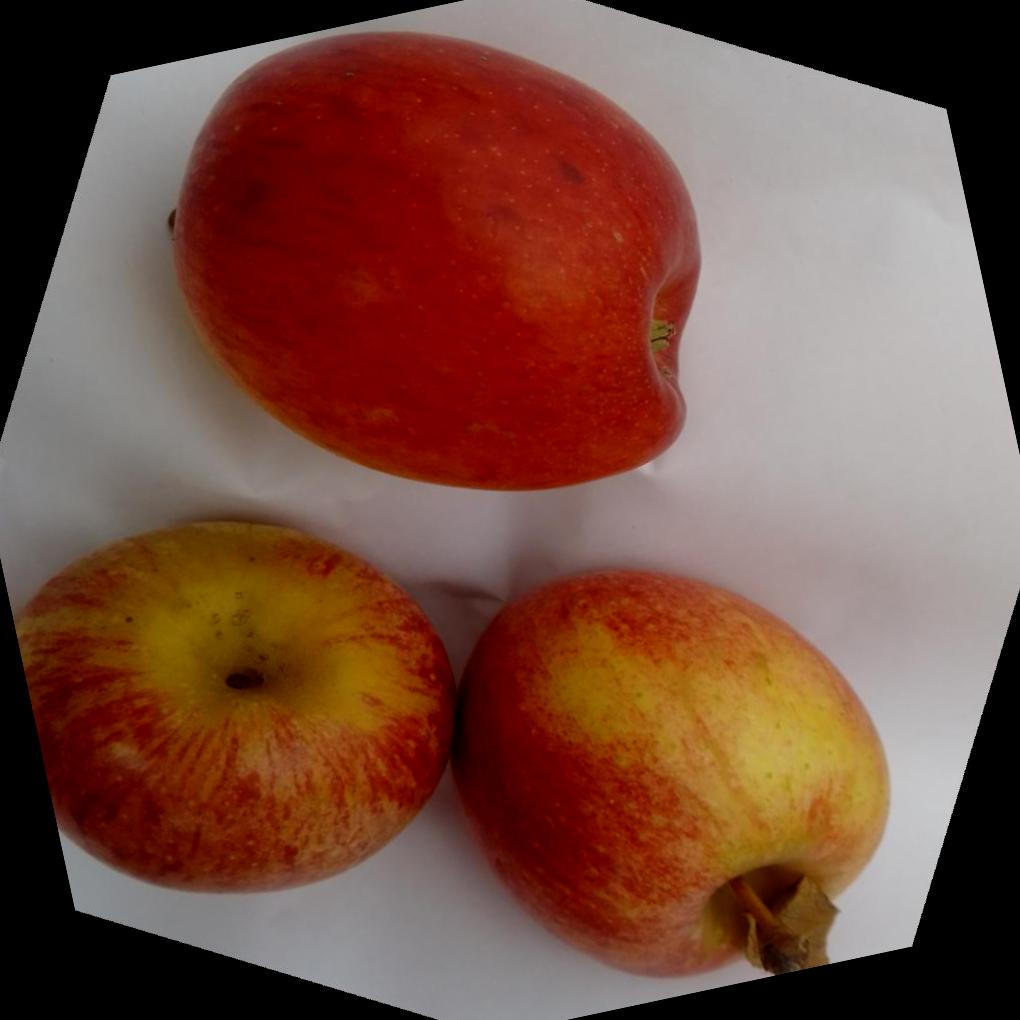FreshGuava: (10, 513, 890, 977), (165, 25, 702, 489)
